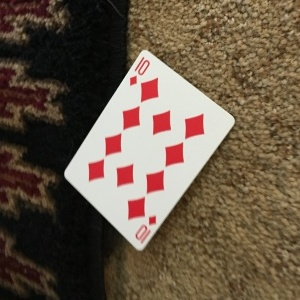card: (63, 49, 236, 251)
